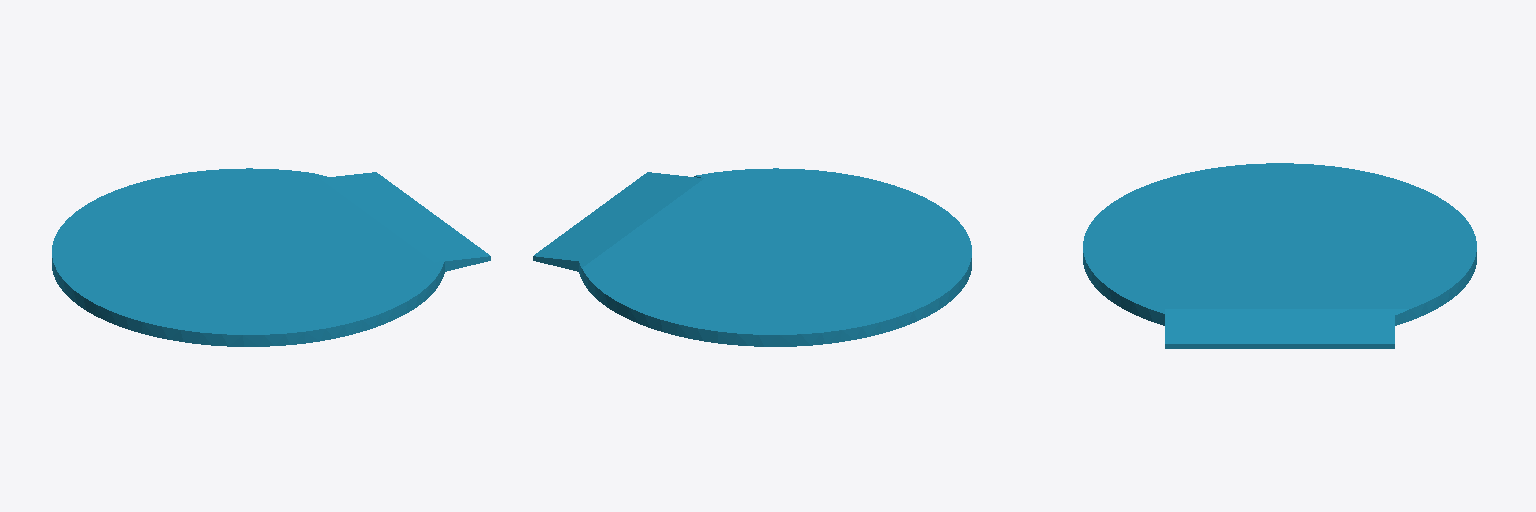
The model's file is тарелочка.obj.
3 renders of one model, left to right at view 1: azimuth 30°, elevation 25°; view 2: azimuth 150°, elevation 25°; view 3: azimuth 270°, elevation 25°, orthographic.
Visible parts, largest first — view 1: Твердое тело1; view 2: Твердое тело1; view 3: Твердое тело1.
Boxes of the visible parts, box(x1,y1,x2,y2) form: Твердое тело1: box(52, 168, 490, 346); Твердое тело1: box(533, 168, 971, 346); Твердое тело1: box(1083, 163, 1476, 348).
Bounding box in the file's own units: 125 × 4.01 × 120.